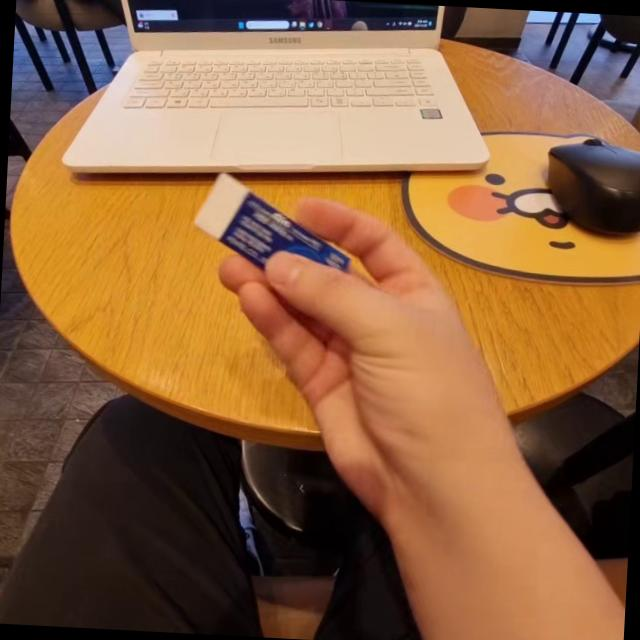eraser: (182, 170, 374, 300)
grab_eraser: (176, 167, 476, 498)
mouse: (531, 134, 640, 254)
